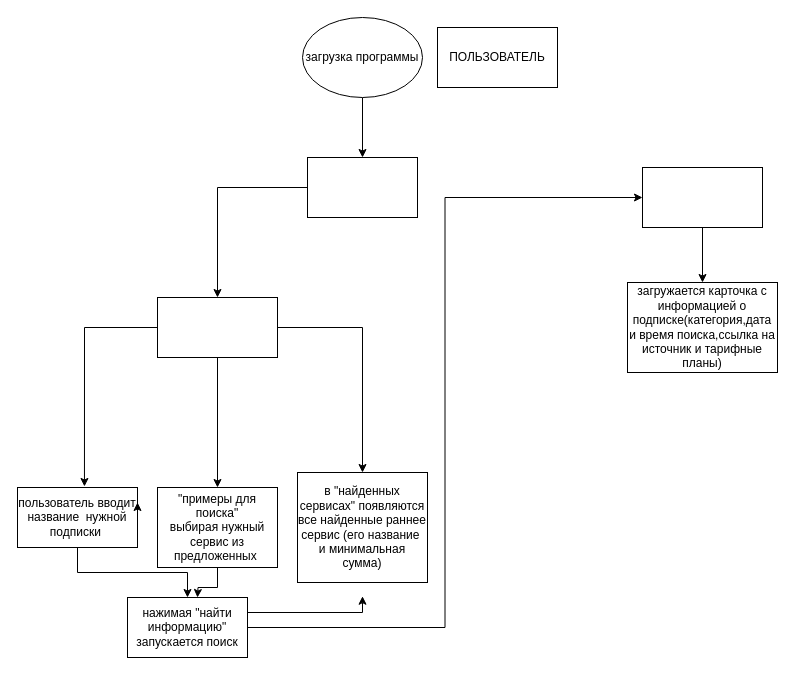
Image size: 795x675. Some labels were removed from this diagram. The centre of each missing label's shape, as x and y in pixels:
главное меню: the point at 362,187
левый край (поиск,примеры для поиска и найденные сервисы: the point at 217,327
правая сторона: the point at 702,197
